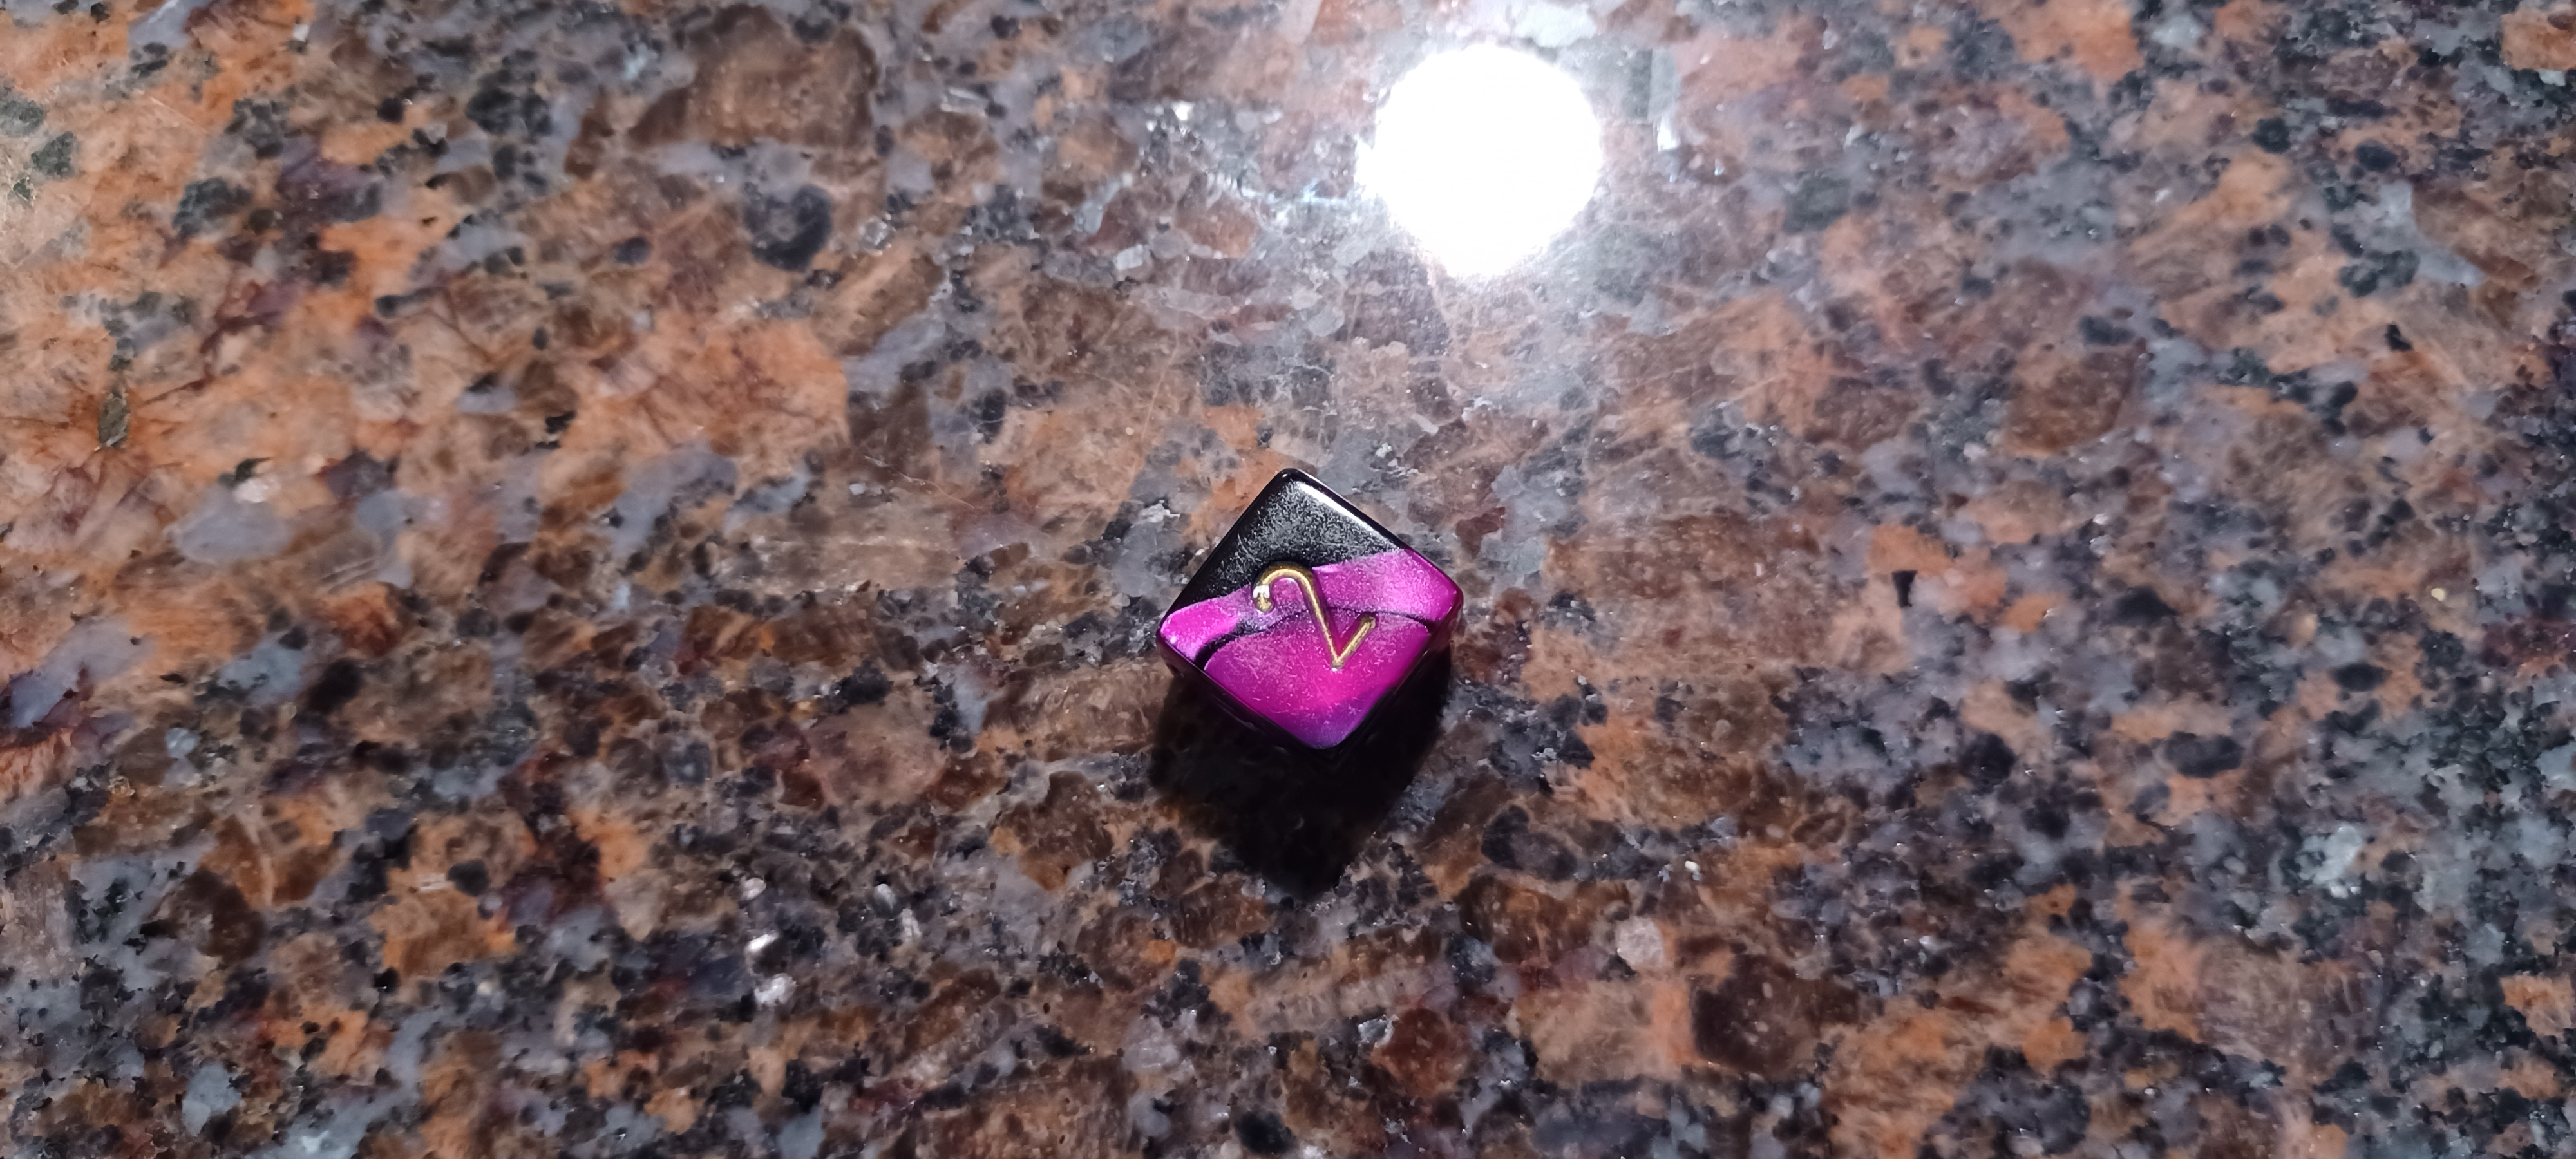two: (1120, 432, 1529, 818)
